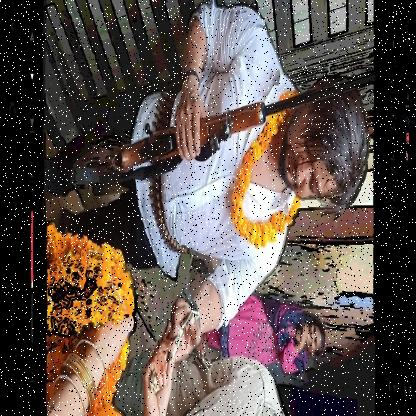rifle: (68, 72, 373, 192)
